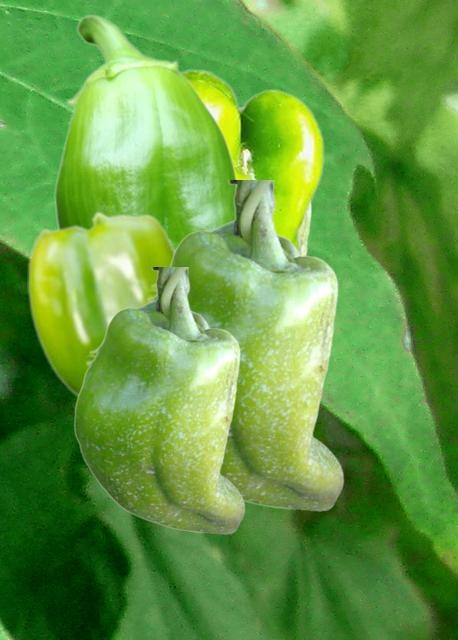bell_pepper: (145, 180, 343, 510), (73, 267, 244, 533), (53, 14, 239, 246), (27, 211, 176, 398), (180, 68, 323, 254)
